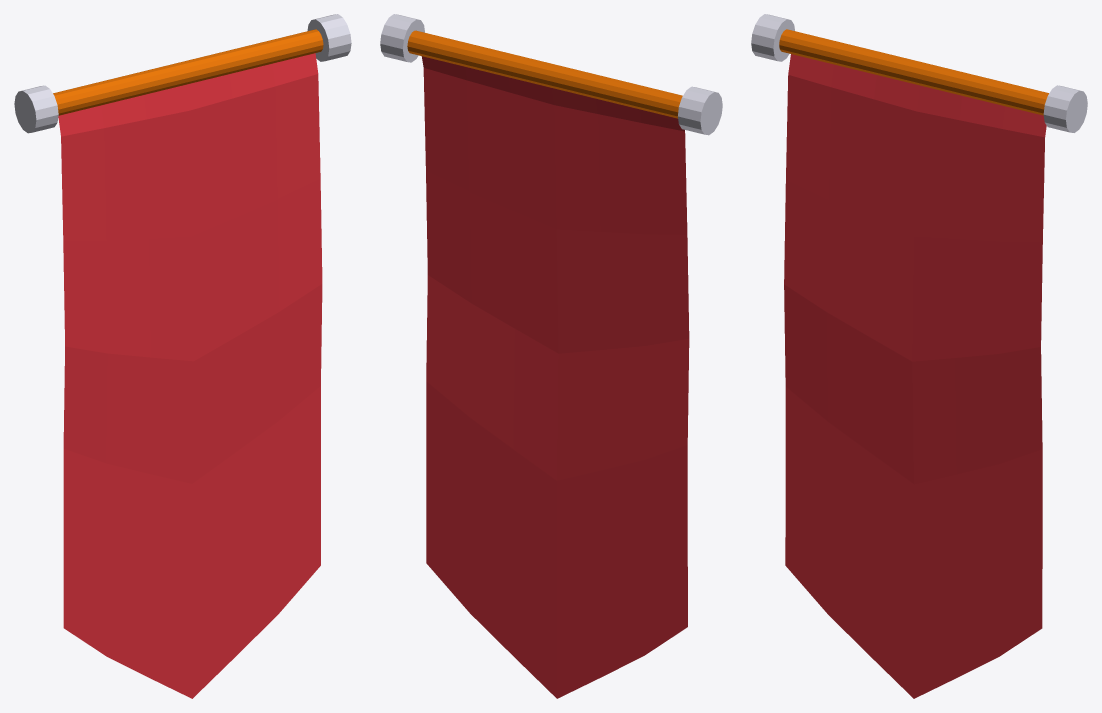
The model's file is Flag.fbx.
3 renders of one model, left to right at view 1: azimuth 30°, elevation 25°; view 2: azimuth 150°, elevation 25°; view 3: azimuth 330°, elevation 25°, orthographic.
Parts seen in each view (by area): view 1: Flag.001; view 2: Flag.001; view 3: Flag.001.
Part boxes in pixels (left/top/right/bottom): Flag.001: left=14, top=14, right=351, bottom=698; Flag.001: left=380, top=14, right=722, bottom=698; Flag.001: left=751, top=14, right=1087, bottom=698.
Bounding box in the file's own units: 247 × 479 × 29.87.
